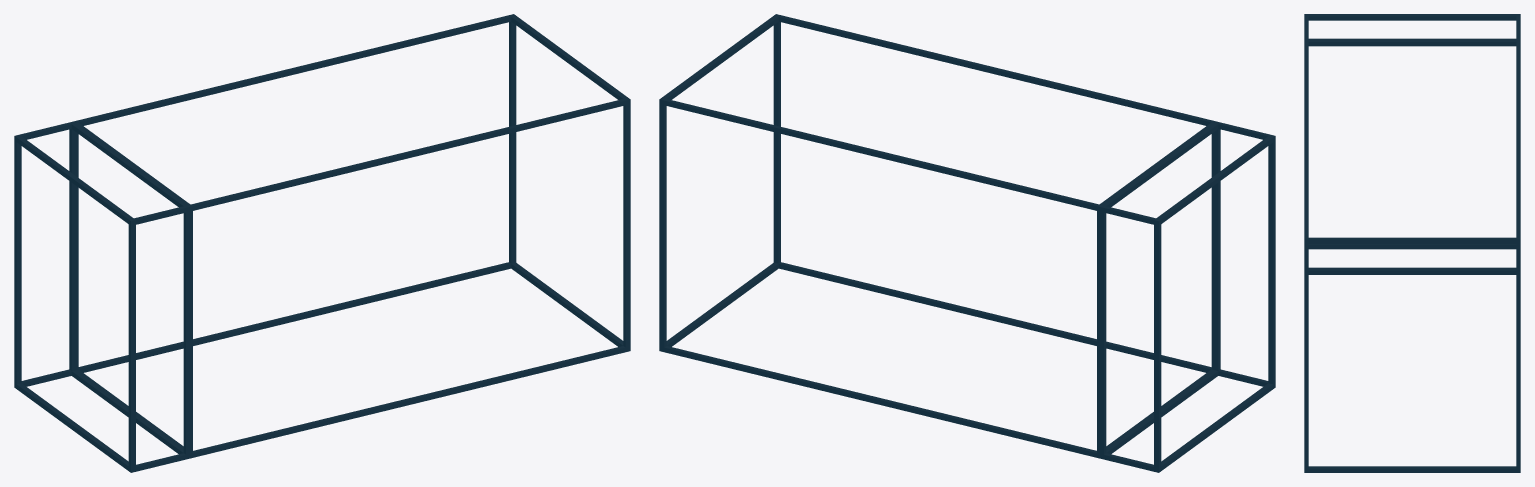
File: role.gltf
3 renders of one model, left to right at view 1: azimuth 30°, elevation 25°; view 2: azimuth 150°, elevation 25°; view 3: azimuth 270°, elevation 25°, orthographic. The views are drawn at different scales.
Parts seen in each view (by area): view 1: Plane.013; view 2: Plane.013; view 3: Plane.013.
Part boxes in pixels (bbox=[...]): Plane.013: bbox=[14, 14, 630, 472]; Plane.013: bbox=[659, 14, 1275, 472]; Plane.013: bbox=[1304, 14, 1520, 472].
Size of the model in its own units: 7.69 by 3.7 by 3.11.
